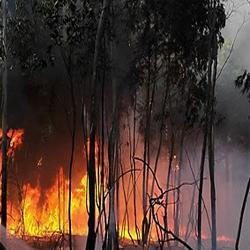fire: (19, 182, 88, 233), (122, 226, 147, 240)
